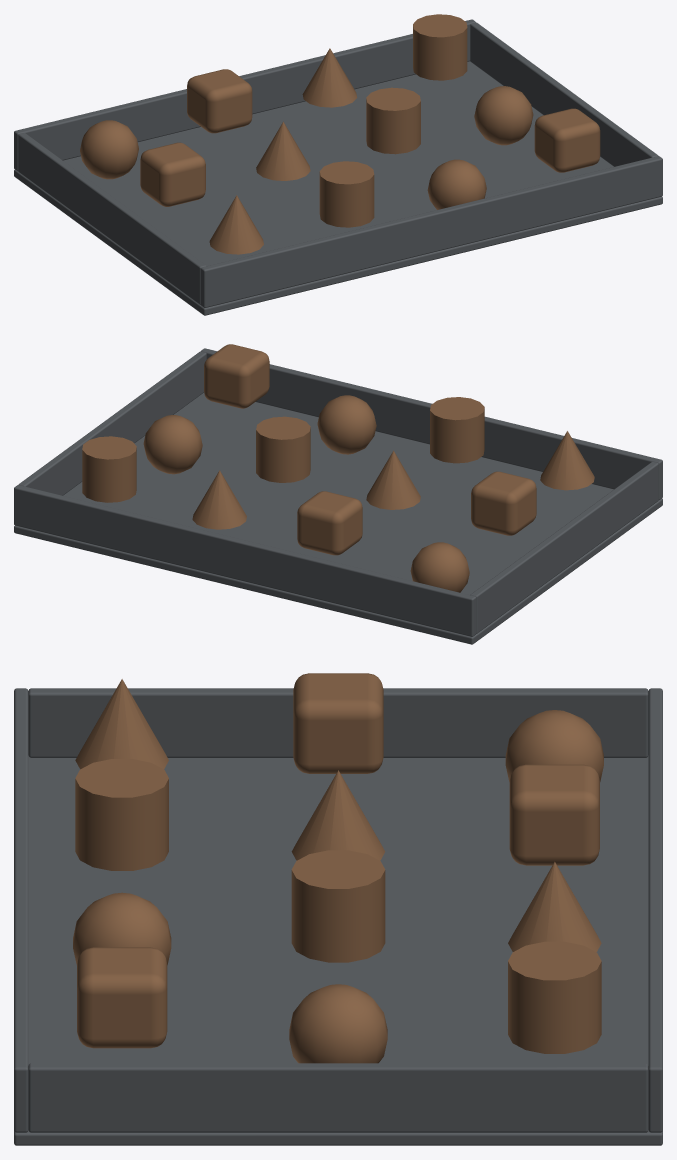
File: chocolate-making-and-confectionery-filled-bonbon-assor-bb90977f__39168.glb
3 views of the same model, one above another, from view 1: azimuth 30°, elevation 25°; view 2: azimuth 150°, elevation 25°; view 3: azimuth 270°, elevation 25° (orthographic). The views are drawn at different scales.
Parts seen in each view (by area): view 1: filled-bonbon-assortment; view 2: filled-bonbon-assortment; view 3: filled-bonbon-assortment.
Part boxes in pixels (left/top/right/bottom): filled-bonbon-assortment: left=14, top=14, right=662, bottom=315; filled-bonbon-assortment: left=14, top=344, right=662, bottom=644; filled-bonbon-assortment: left=14, top=673, right=662, bottom=1145.
Bounding box in the file's own units: 0.5 × 0.086 × 0.36.
